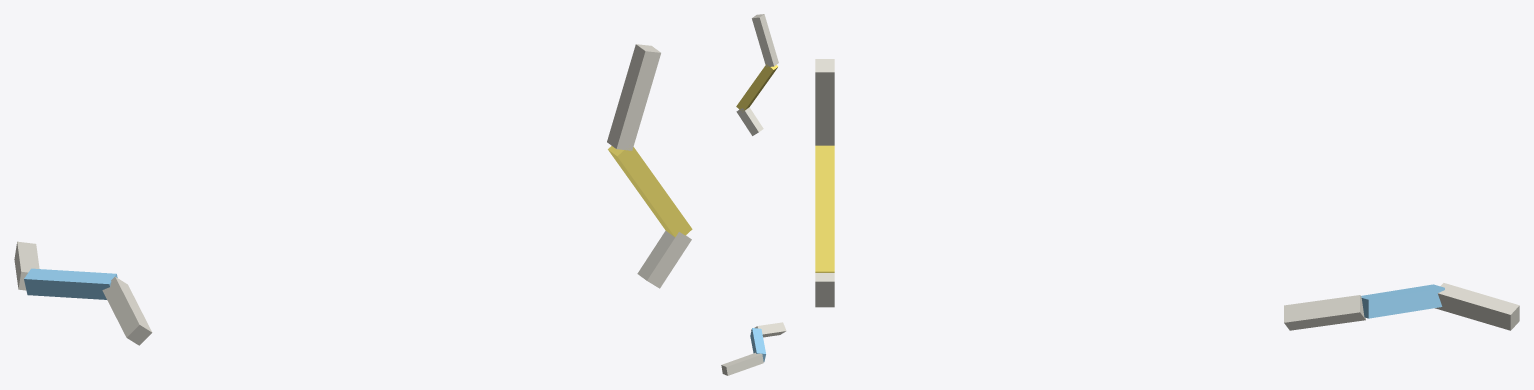
The picture shows the model from 3 angles, left to right: view 1: azimuth 30°, elevation 25°; view 2: azimuth 150°, elevation 25°; view 3: azimuth 270°, elevation 25°; orthographic projection. The views are drawn at different scales.
Visible parts, largest first — view 1: t30_g10_p0; view 2: t30_g10_p0; view 3: t30_g10_p0.
Boxes of the visible parts, x1,y1,x2,y2 form: t30_g10_p0: (14,44,692,345); t30_g10_p0: (721,14,786,375); t30_g10_p0: (815,59,1519,330).
Bounding box in the file's own units: 3.88 × 4.15 × 6.58.
